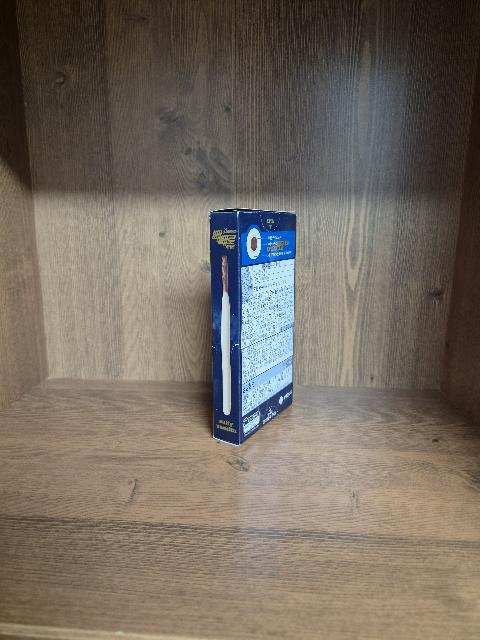pepero: (209, 207, 297, 447)
